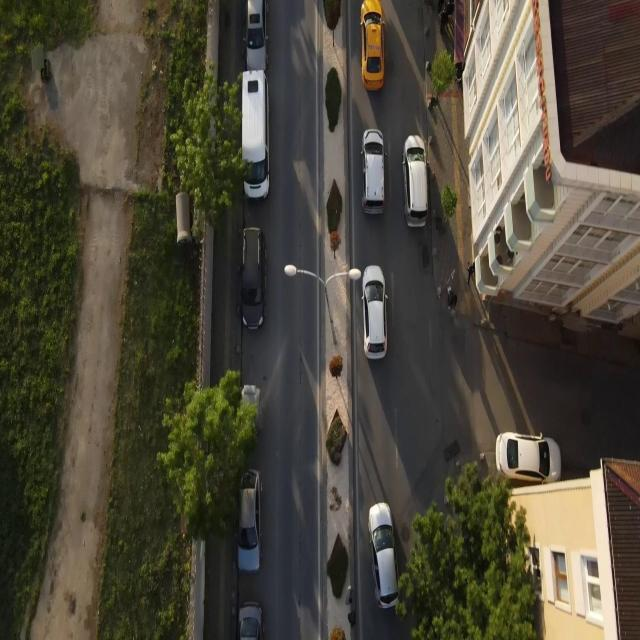p3rson: (466, 260, 475, 289), (440, 6, 448, 36), (448, 289, 458, 312), (452, 0, 456, 23), (448, 0, 452, 21)
